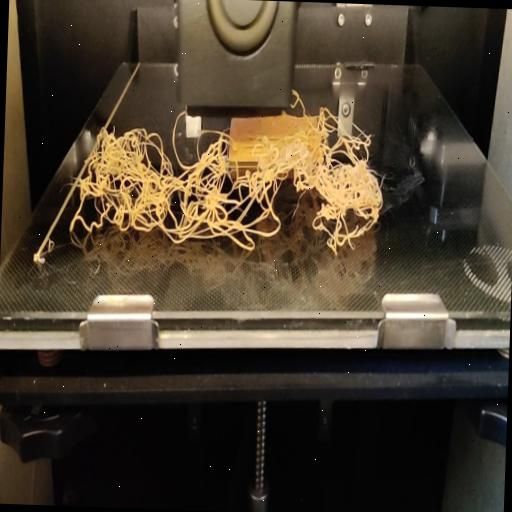spaghetti: (68, 119, 198, 265), (282, 86, 394, 255), (194, 122, 285, 250), (173, 106, 186, 122)
